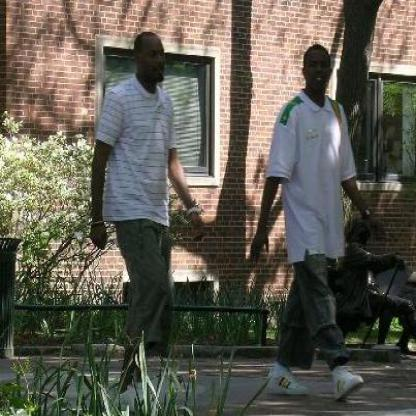person: (250, 30, 369, 396), (79, 26, 193, 405)
